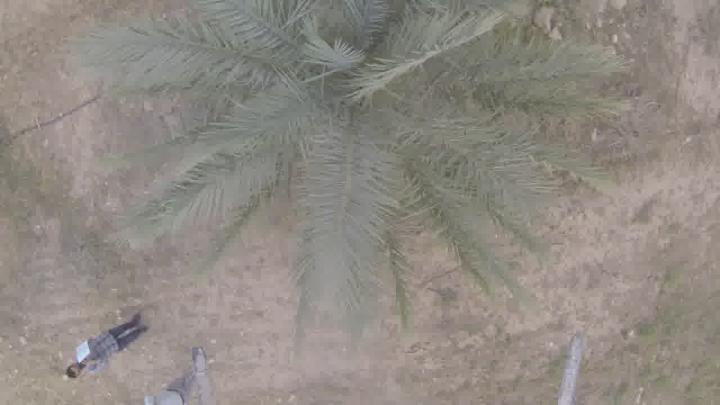Date-Palm-Crown: (206, 0, 522, 216)
